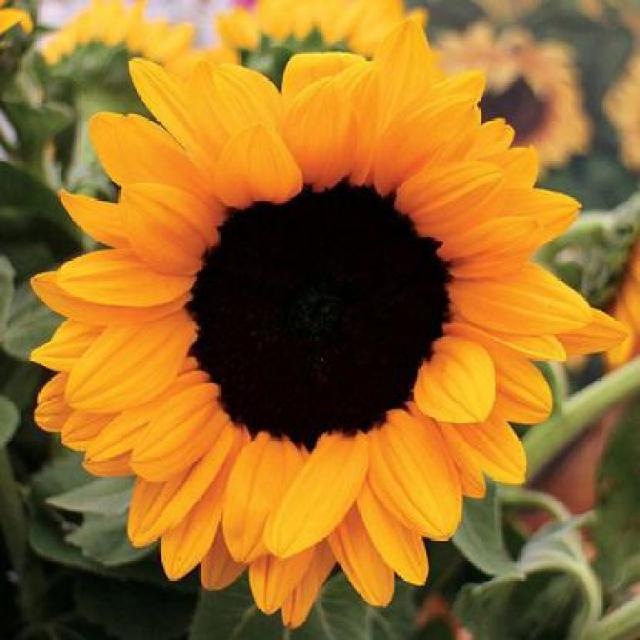sunflower: (12, 13, 639, 638)
